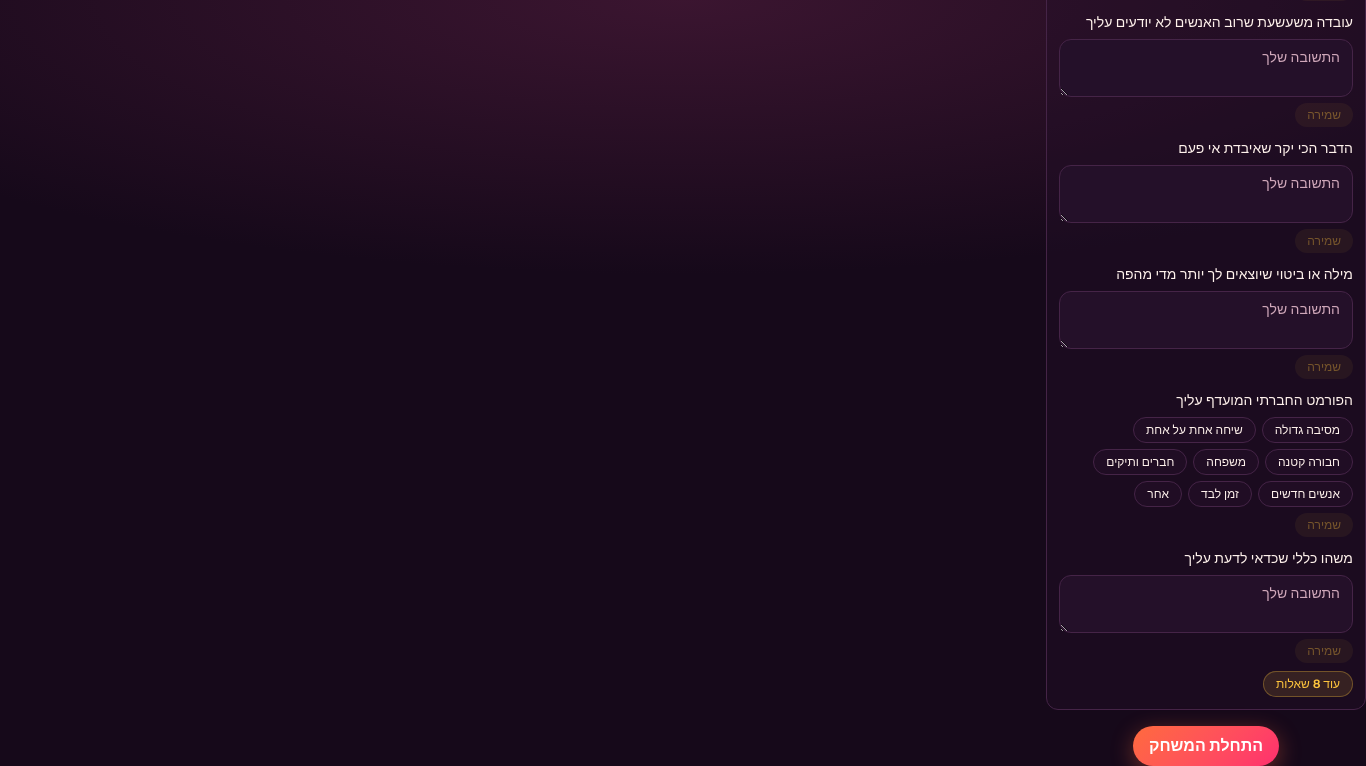
Test: Lobby, starting while somebody has not changed a rejected name › warns, listing who has not changed their name, instead of starting at once
(page scrolled)
Click the button "התחלת המשחק". click: (1206, 746)
box: top-left (1133, 726), bottom-right (1279, 765)
(page scrolled)
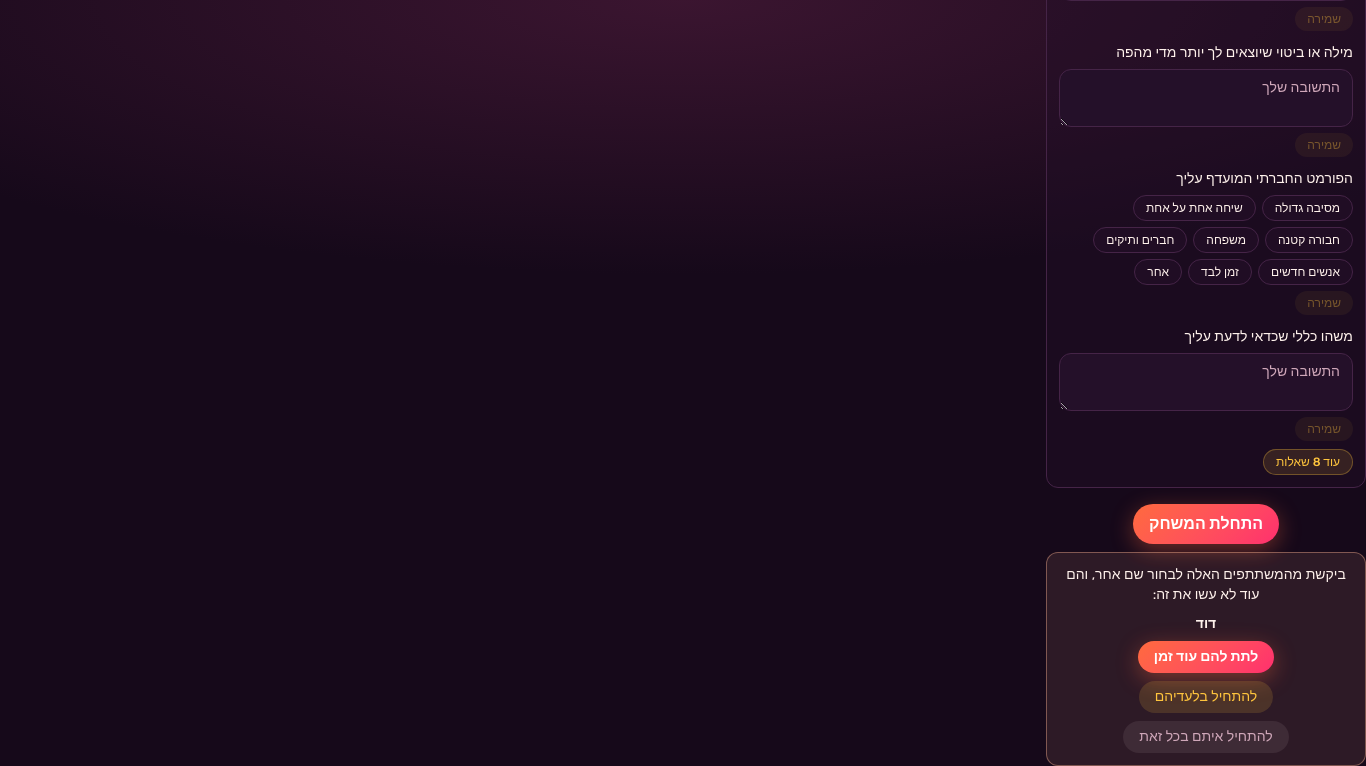
Expected: the message shows "דוד", top-left (1196, 614), bottom-right (1216, 631)
